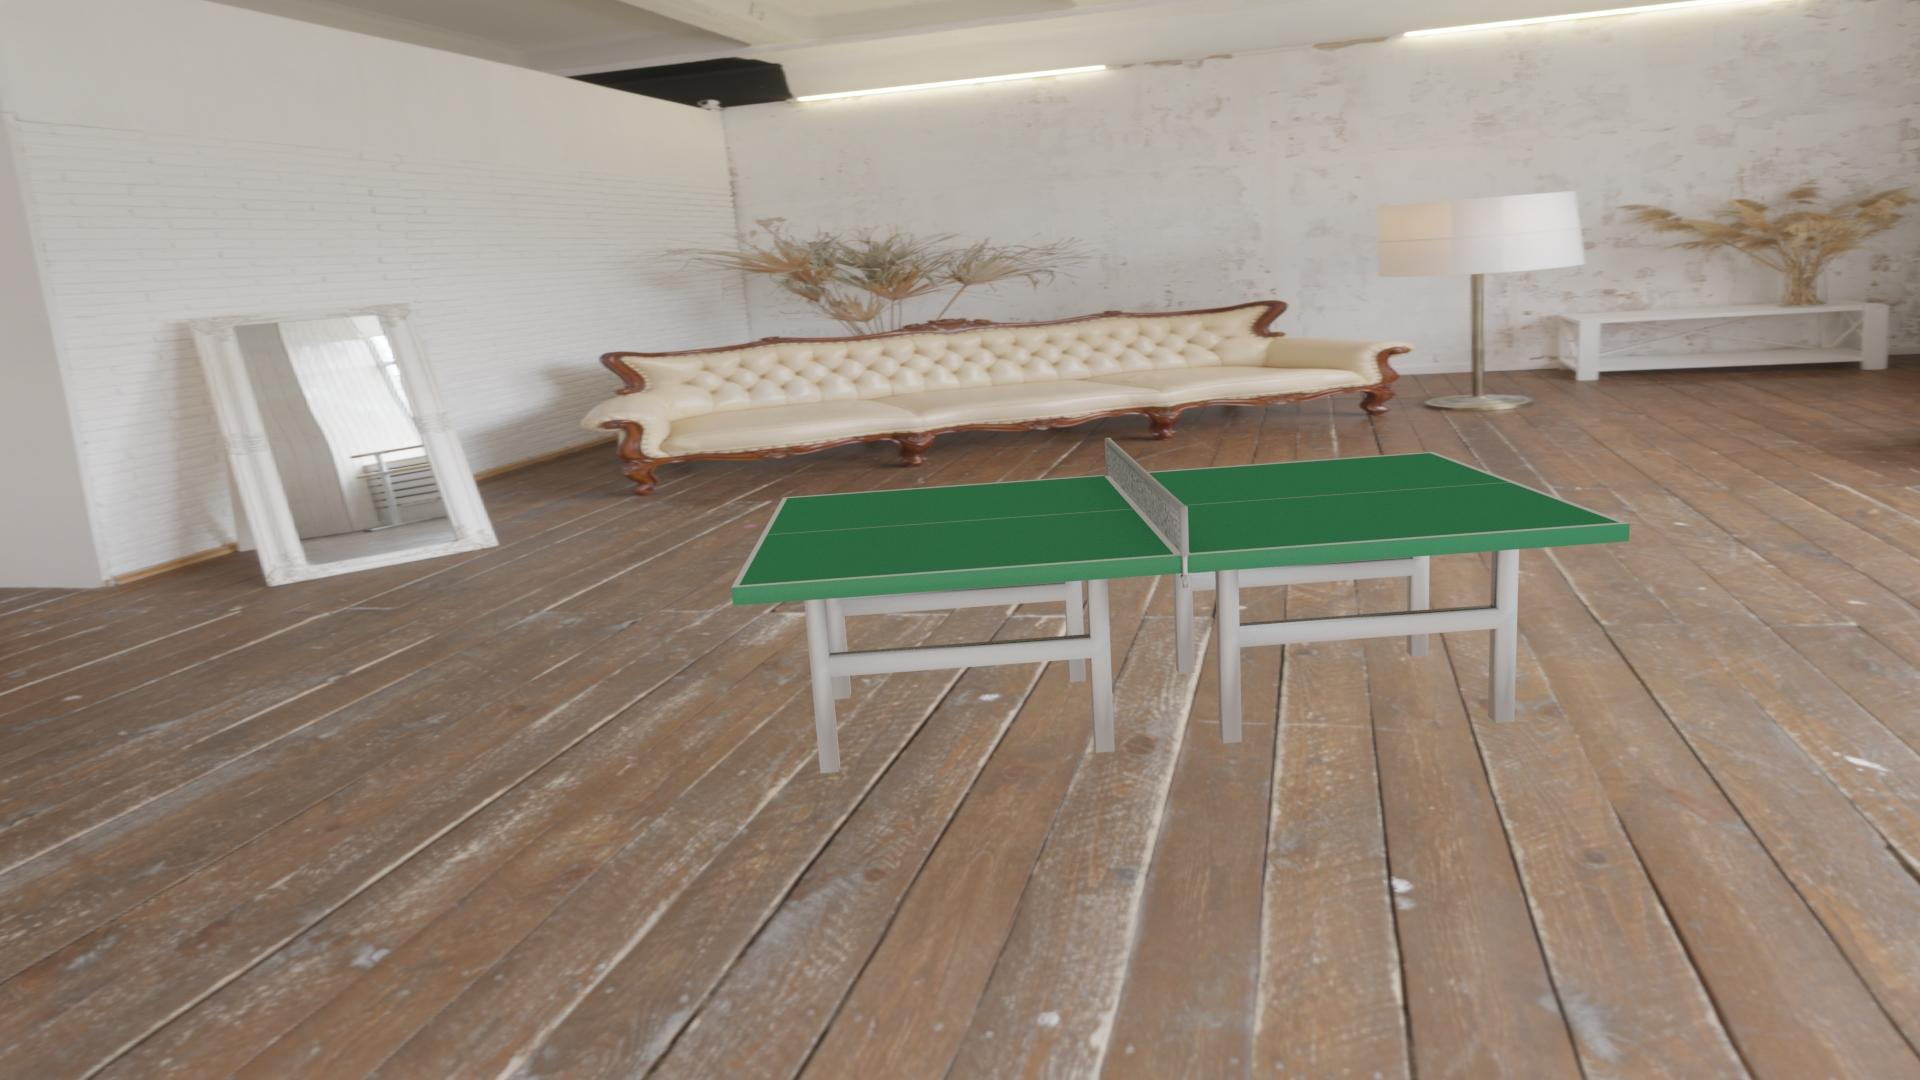table: (738, 452, 1619, 585)
